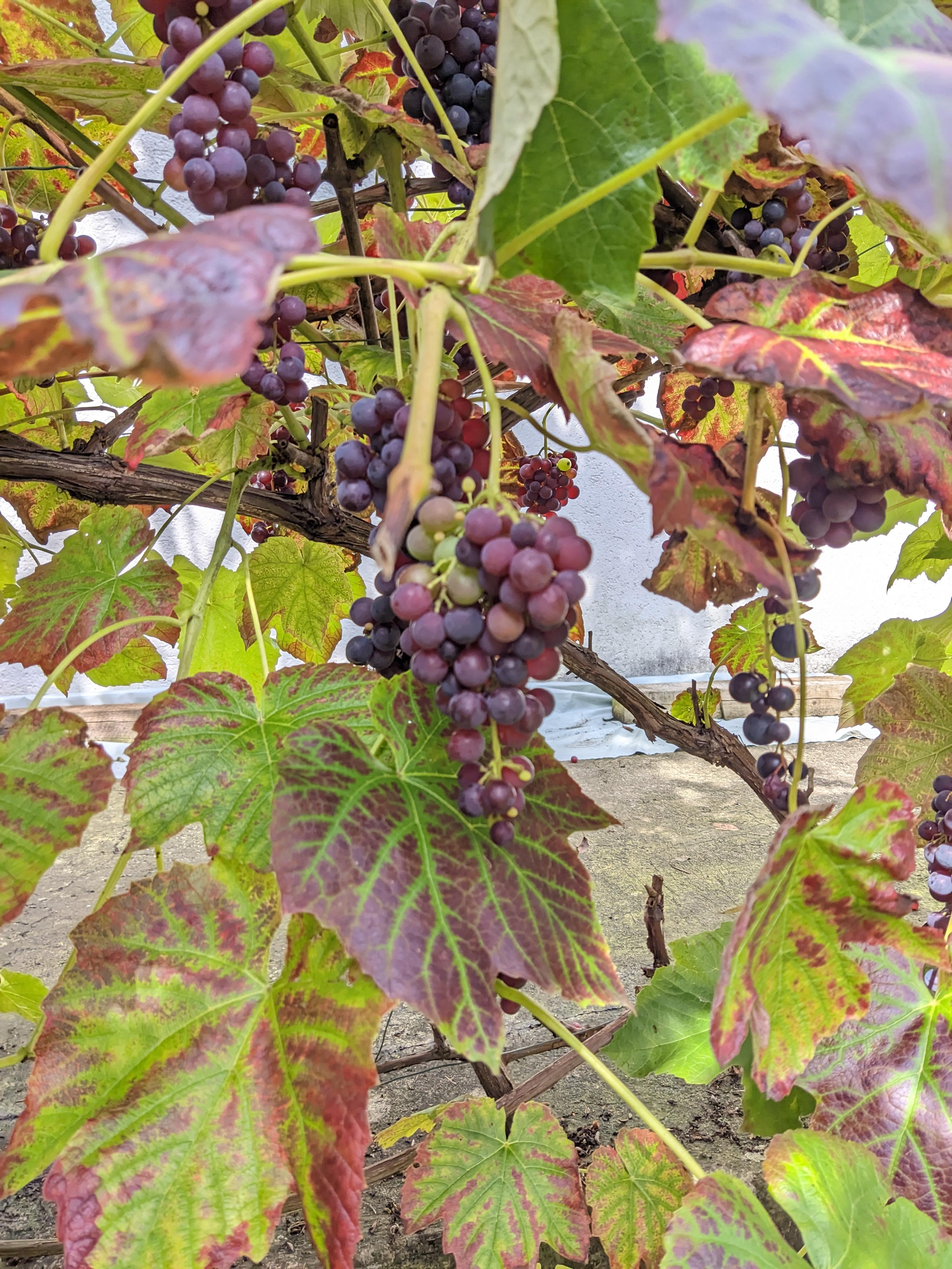Grape Ripe: (399, 462, 597, 852), (140, 0, 320, 224), (384, 0, 499, 209), (727, 564, 822, 816), (330, 379, 493, 516), (730, 175, 854, 275), (788, 433, 889, 550), (236, 292, 308, 406), (345, 569, 408, 681), (0, 207, 98, 270), (916, 770, 952, 929), (681, 377, 735, 422)
